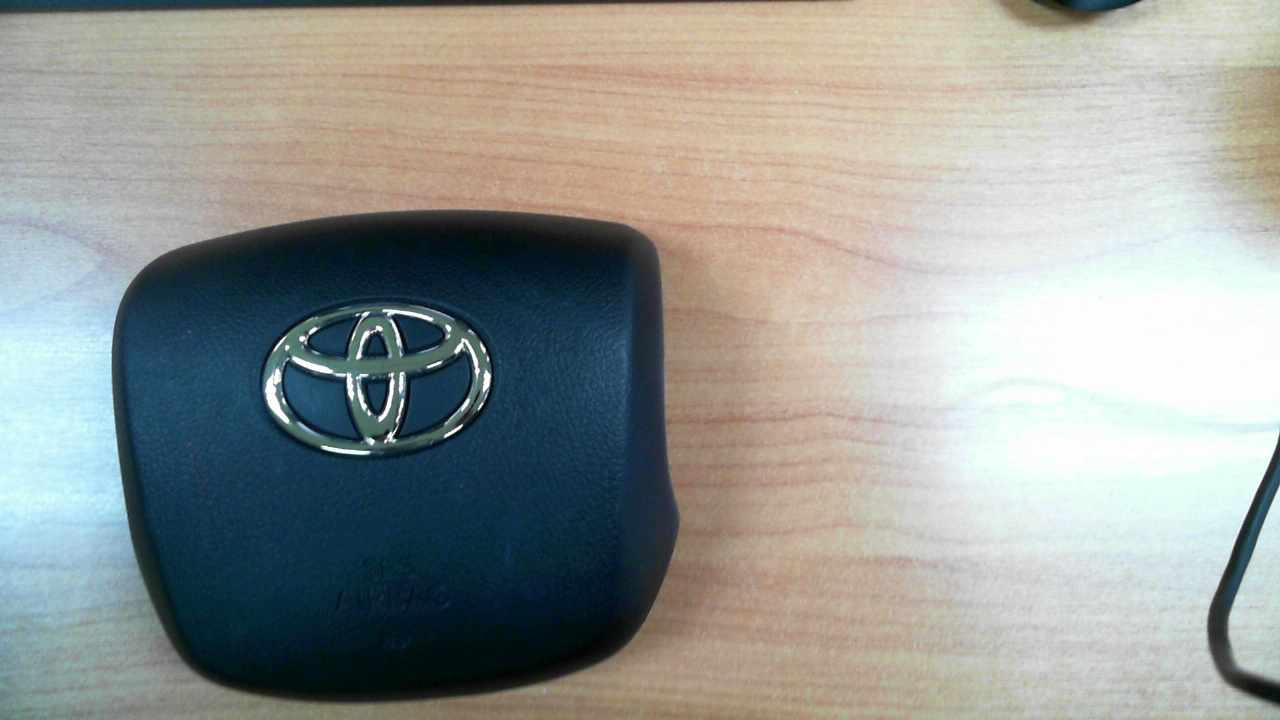Airbag: (119, 209, 680, 697)
Toyota: (262, 301, 493, 456)
